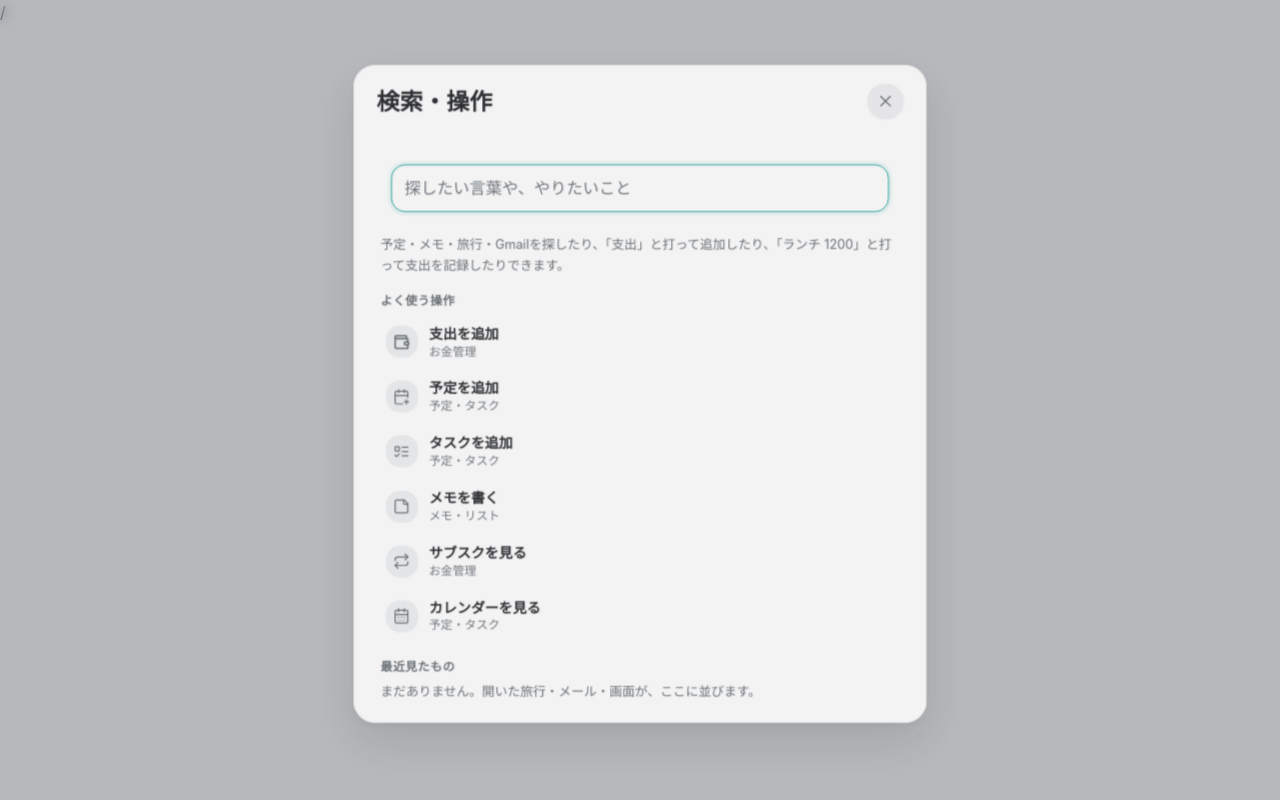
Test: まとめて検索(打った時) › 「支出」と打つと、支出を追加がいちばん上に出て、Enter でフォームの印付きで開く
This screenshot has width=1280, height=800.
Type "支出" into the dropdown named "まとめて検索" at (640, 186), box [390,162,890,210]
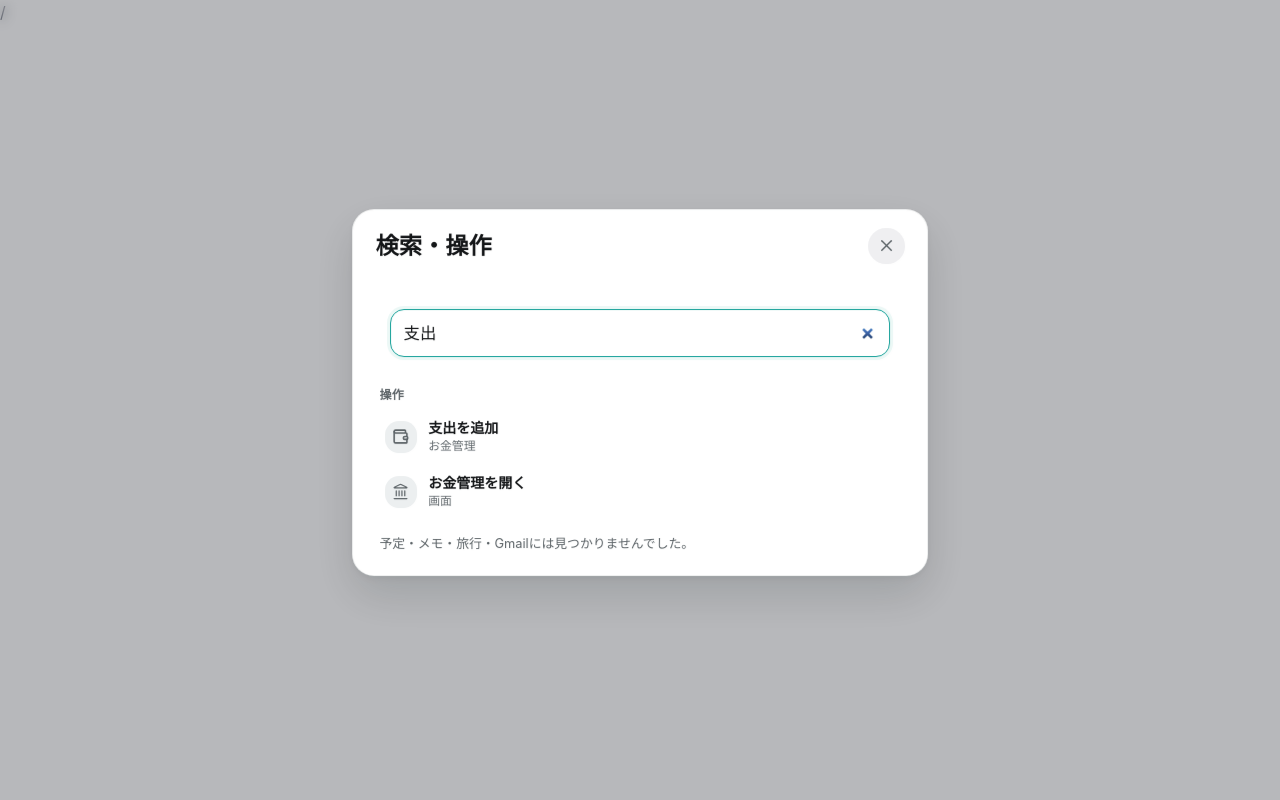
Expected: the element "操作" is shown, [379,387,526,508]
Press Enter
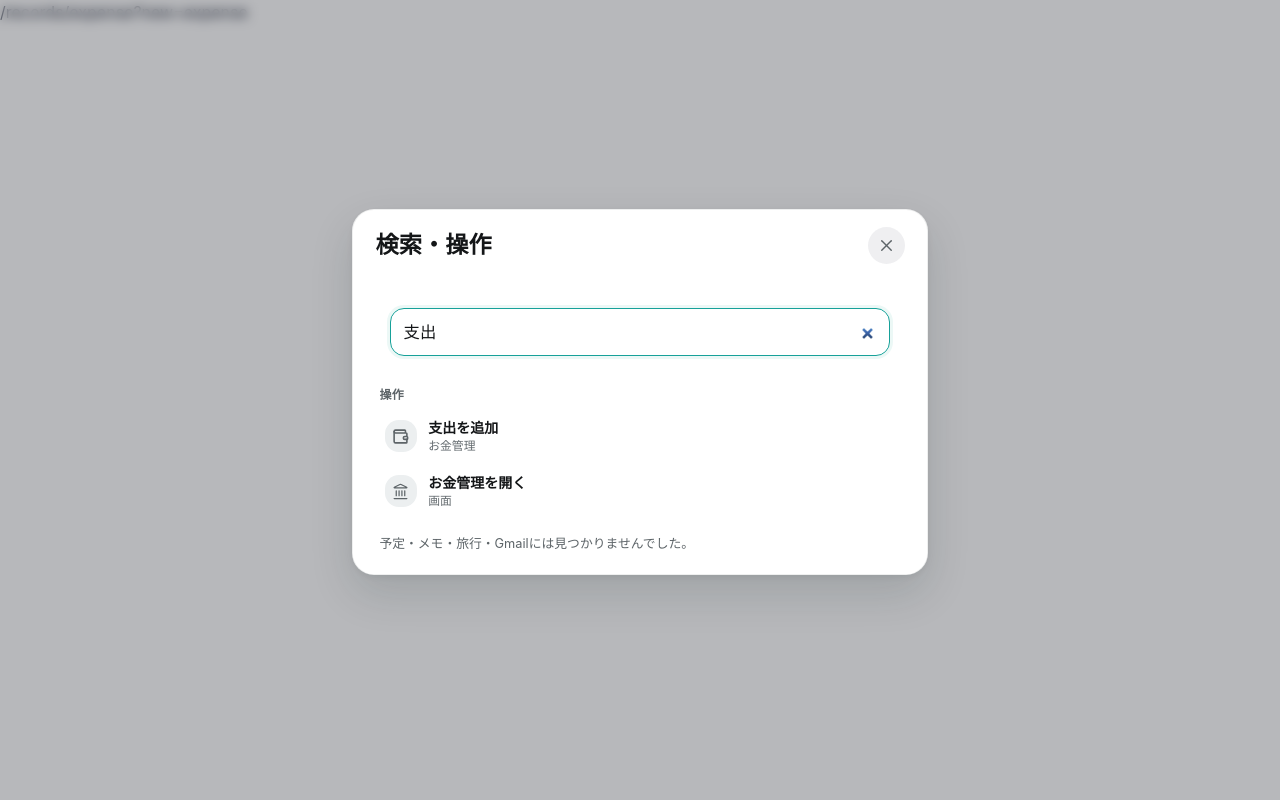
Now the text with test id "location" reads "/records/expense?new=expense", box [0,2,248,22]
